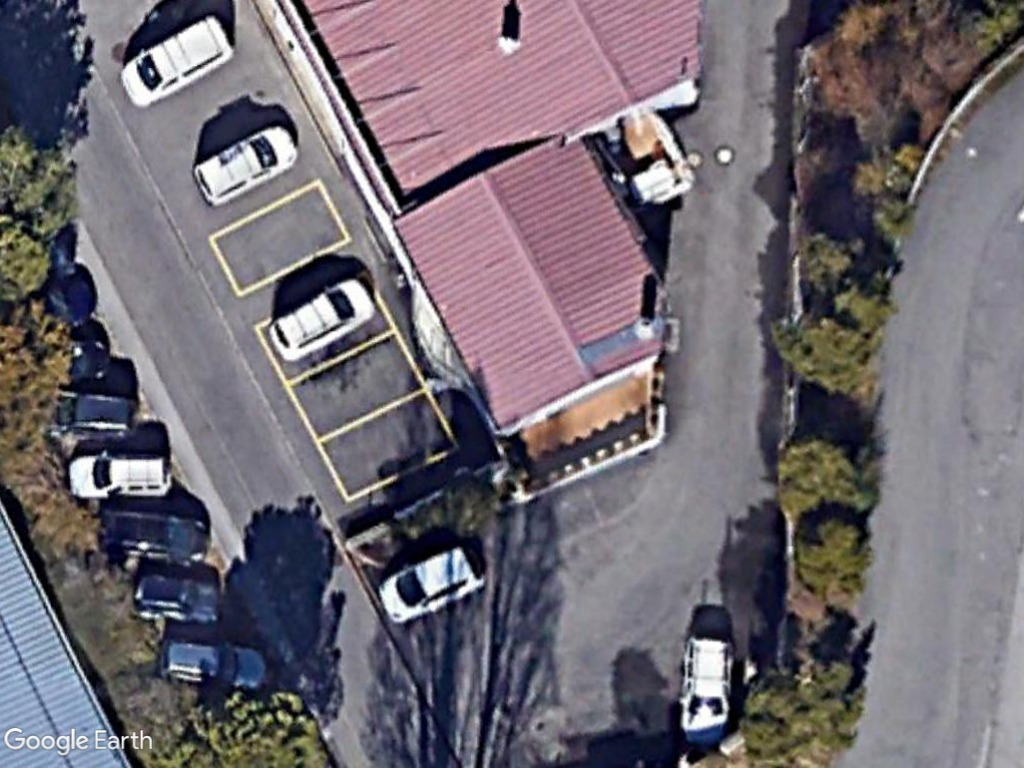car: (263, 277, 376, 364), (188, 121, 299, 209), (376, 541, 489, 626), (676, 630, 741, 751), (158, 634, 271, 694), (65, 449, 177, 507)
van: (117, 11, 234, 111)
